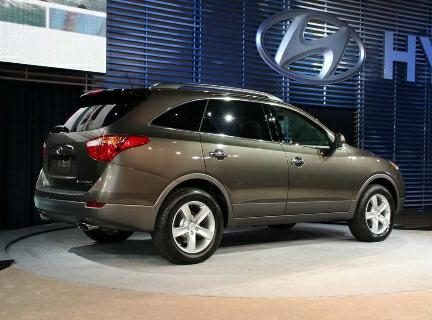car: (23, 78, 419, 272)
